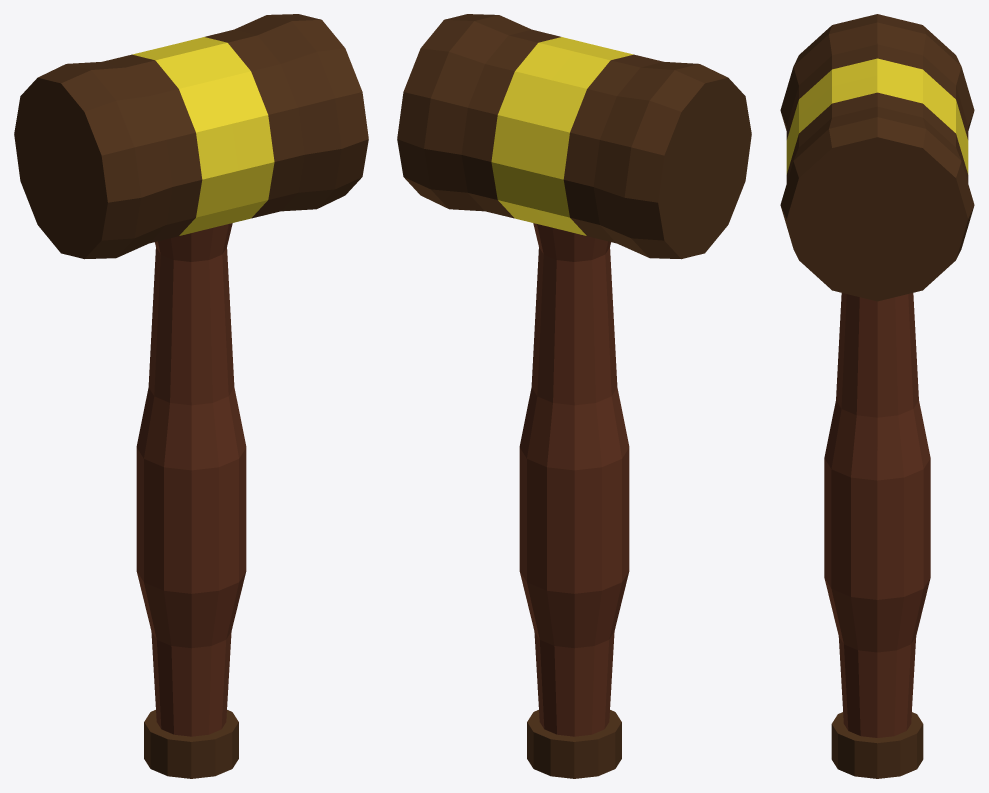
Rendered from Richter Hammer.fbx.
3 renders of one model, left to right at view 1: azimuth 30°, elevation 25°; view 2: azimuth 150°, elevation 25°; view 3: azimuth 270°, elevation 25°, orthographic. The views are drawn at different scales.
Parts seen in each view (by area): view 1: Cylinder.001, Cylinder, Cylinder.003, Cylinder.002; view 2: Cylinder.001, Cylinder, Cylinder.003, Cylinder.002; view 3: Cylinder.001, Cylinder, Cylinder.003, Cylinder.002.
Part boxes in pixels (bbox=[...]): Cylinder.001: bbox=[14, 14, 368, 259]; Cylinder: bbox=[136, 223, 246, 736]; Cylinder.003: bbox=[132, 37, 274, 235]; Cylinder.002: bbox=[144, 710, 238, 778]; Cylinder.001: bbox=[397, 14, 751, 259]; Cylinder: bbox=[519, 223, 629, 736]; Cylinder.003: bbox=[491, 37, 633, 235]; Cylinder.002: bbox=[527, 710, 621, 778]; Cylinder.001: bbox=[780, 14, 974, 301]; Cylinder: bbox=[824, 293, 930, 737]; Cylinder.003: bbox=[786, 58, 968, 174]; Cylinder.002: bbox=[831, 712, 923, 778].
Size of the model in its own units: 51.32 by 134 by 34.19.
